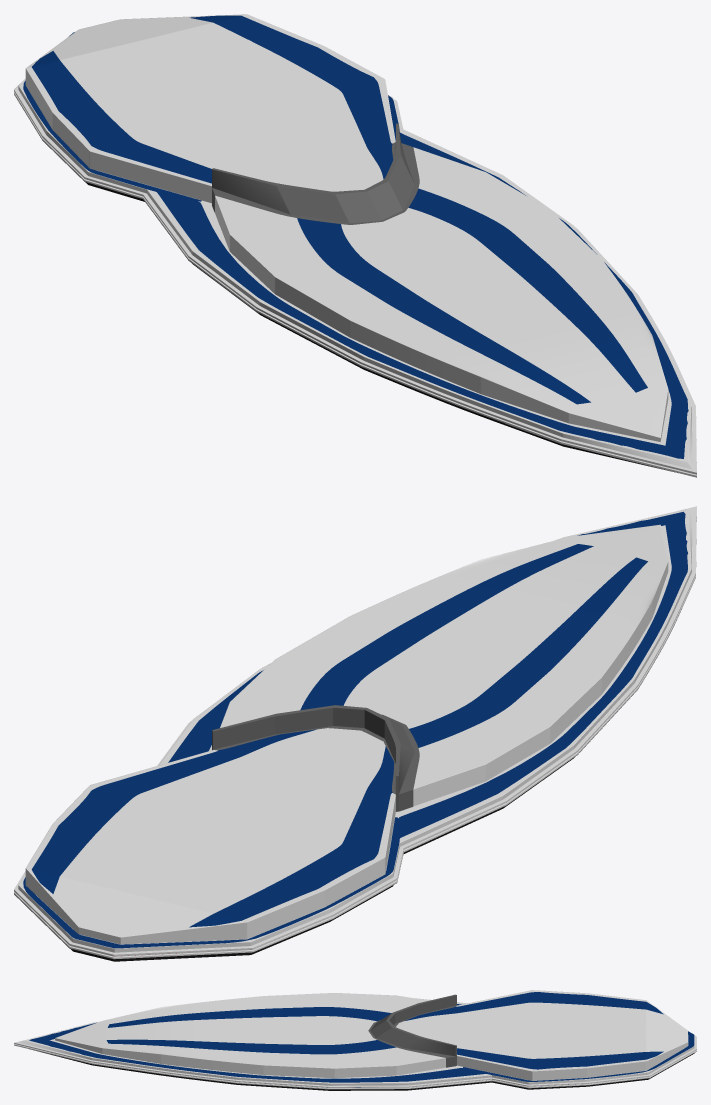
The picture shows the model from 3 angles, top to bottom: view 1: azimuth 30°, elevation 25°; view 2: azimuth 150°, elevation 25°; view 3: azimuth 270°, elevation 25°; orthographic projection. The views are drawn at different scales.
Visible parts, largest first — view 1: SURF_BOARD_HP; view 2: SURF_BOARD_HP; view 3: SURF_BOARD_HP.
Part boxes in pixels (<box>): SURF_BOARD_HP: <box>14,14,696,477</box>; SURF_BOARD_HP: <box>14,506,696,961</box>; SURF_BOARD_HP: <box>14,990,696,1090</box>.
Bounding box in the file's own units: 49.84 × 7.24 × 163.
